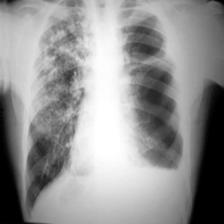tuberculosis: (9, 0, 196, 224)
